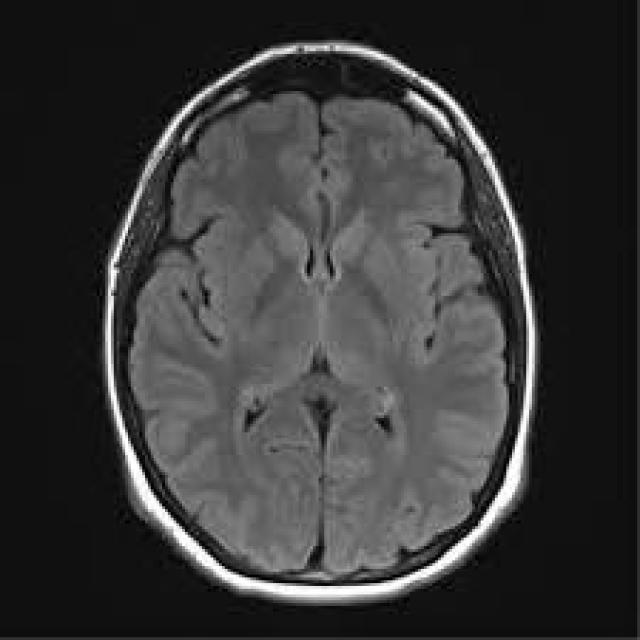notumor: (102, 40, 540, 609)
